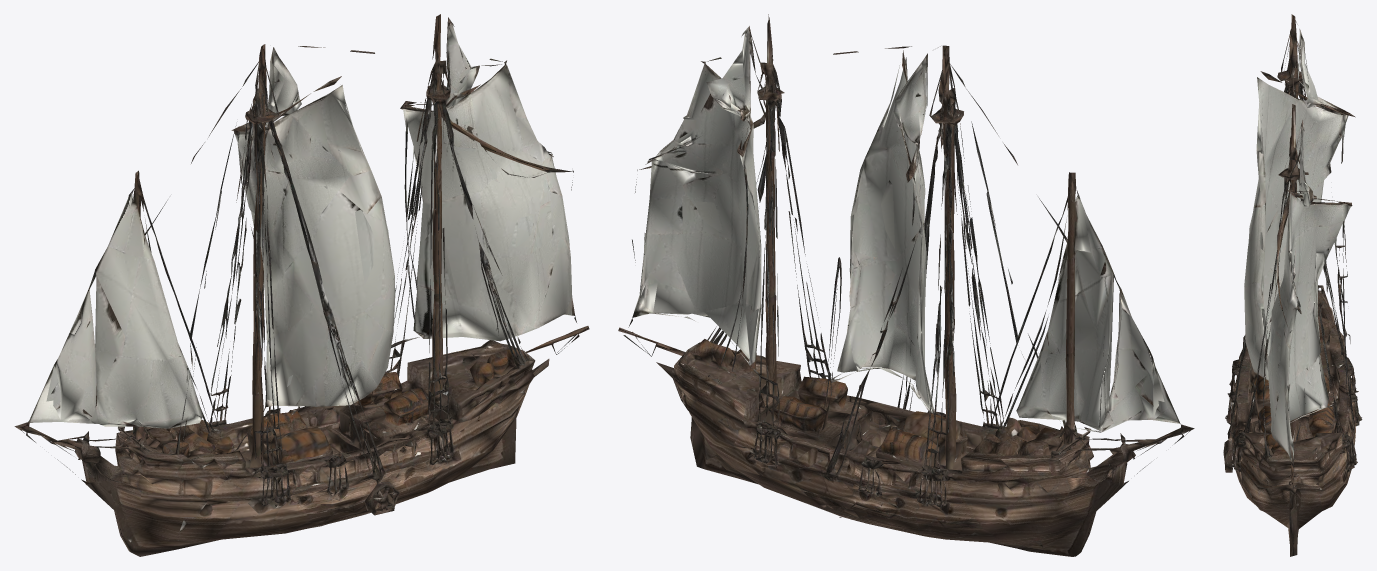
The model's file is schiff-handel.glb.
3 views of the same model, side by side, from view 1: azimuth 30°, elevation 25°; view 2: azimuth 150°, elevation 25°; view 3: azimuth 270°, elevation 25° (orthographic). The views are drawn at different scales.
Size of the model in its own units: 1.9 by 1.53 by 0.4409.
1 material, 1 textured.
